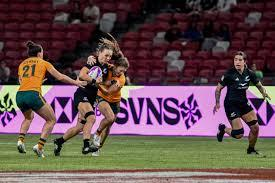ballon_rugby: (87, 65, 103, 90)
